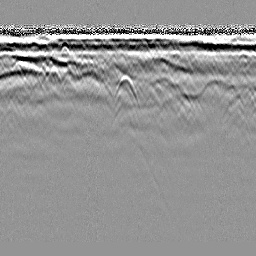cavity: (113, 71, 139, 107)
